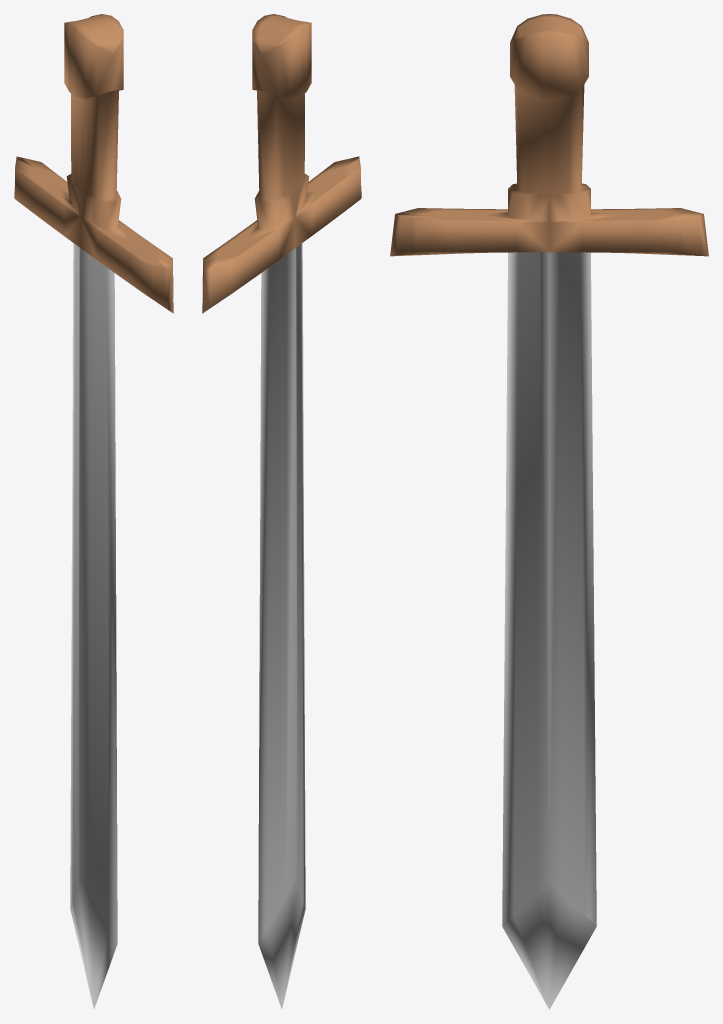
The model's file is Sword.fbx.
3 renders of one model, left to right at view 1: azimuth 30°, elevation 25°; view 2: azimuth 150°, elevation 25°; view 3: azimuth 270°, elevation 25°, orthographic.
Visible parts, largest first — view 1: BasicSword; view 2: BasicSword; view 3: BasicSword.
Boxes of the visible parts, x1,y1,x2,y2 form: BasicSword: (14,14,173,1009); BasicSword: (202,14,361,1009); BasicSword: (390,14,708,1009).
Size of the model in its own units: 15.05 by 98.59 by 336.
